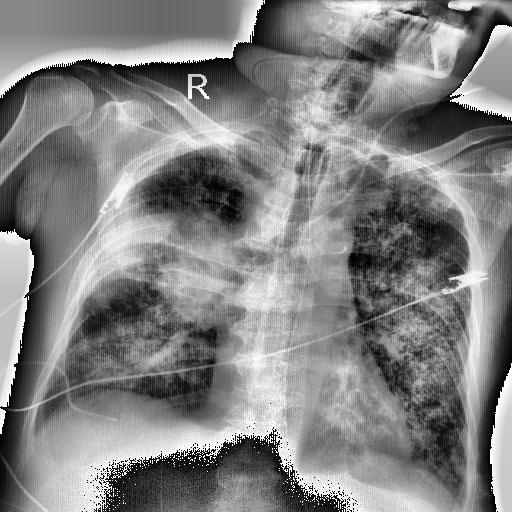11- Pleural thickening: (132, 128, 262, 182)
4- Consolidation: (99, 189, 236, 319), (94, 206, 238, 324), (79, 205, 196, 295)
5- ILD: (44, 136, 256, 426), (352, 162, 466, 477)
6- Infiltration: (374, 189, 470, 484), (370, 170, 464, 469), (135, 136, 262, 232)
7- Lung Opacity: (370, 170, 464, 469), (99, 189, 236, 319), (135, 136, 262, 232), (168, 236, 258, 334)
8- Nodule-Mass: (168, 236, 258, 334)
